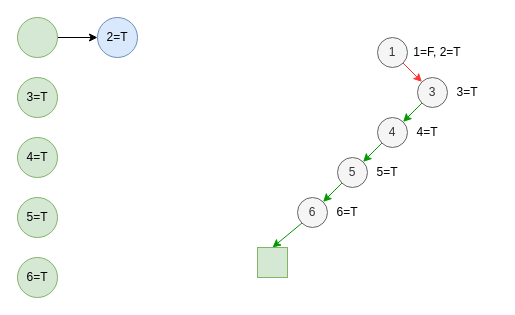
Image size: 515x315. Some labels were removed from this diagram. The centre of each missing label's shape, as x and y in pixels:
"1=F" belongs at [37,37].
"SAT" belongs at [272,262].
